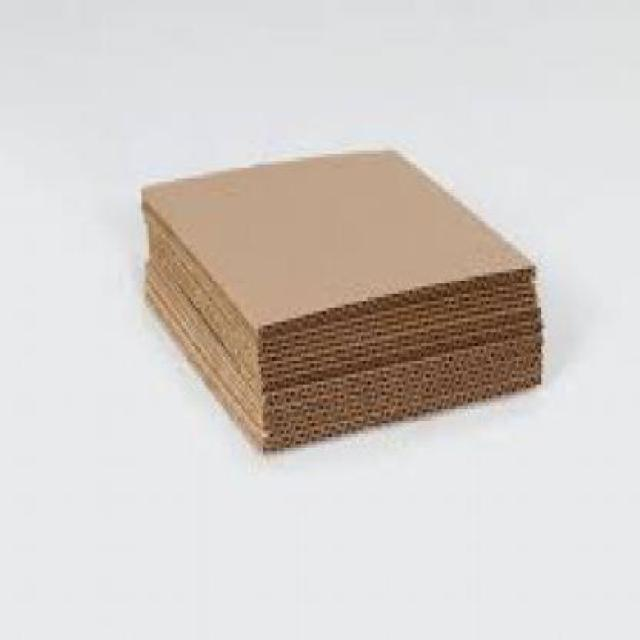cardboard: (145, 148, 548, 455), (144, 148, 538, 332)
